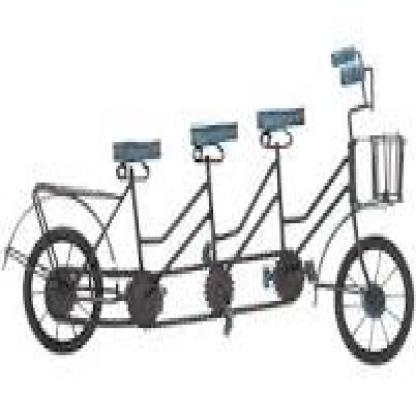Bike: (2, 40, 416, 366)
